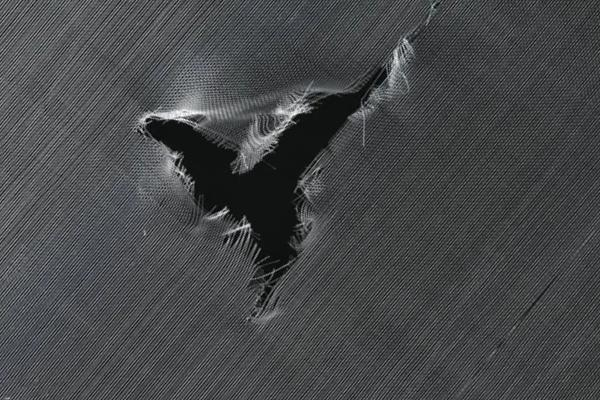hole: (126, 37, 429, 327)
